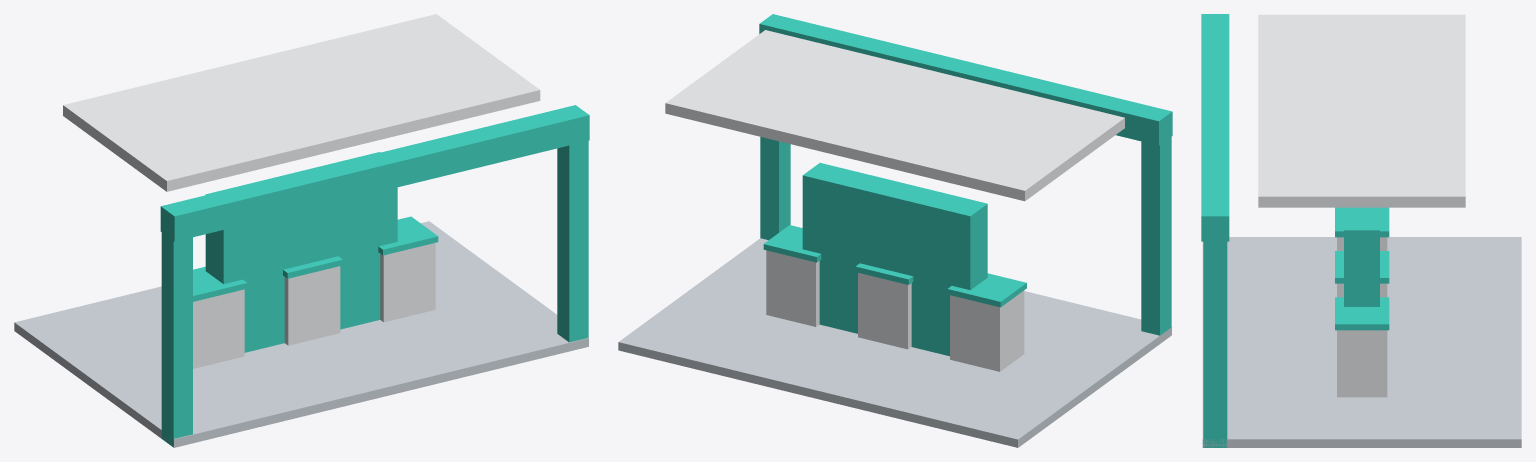
3 renders of one model, left to right at view 1: azimuth 30°, elevation 25°; view 2: azimuth 150°, elevation 25°; view 3: azimuth 270°, elevation 25°, orthographic. The views are drawn at different scales.
Parts seen in each view (by area): view 1: Exhibition Booth Concept; view 2: Exhibition Booth Concept; view 3: Exhibition Booth Concept.
Part boxes in pixels (<box>): Exhibition Booth Concept: <box>14,14,589,447</box>; Exhibition Booth Concept: <box>618,14,1172,447</box>; Exhibition Booth Concept: <box>1201,14,1521,447</box>.
Size of the model in its own units: 6 by 3.34 by 4.02.
